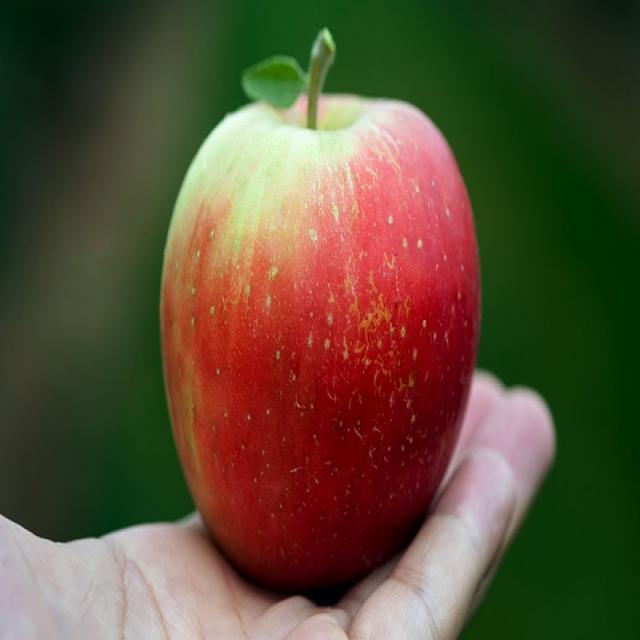Apple: (152, 30, 484, 595)
